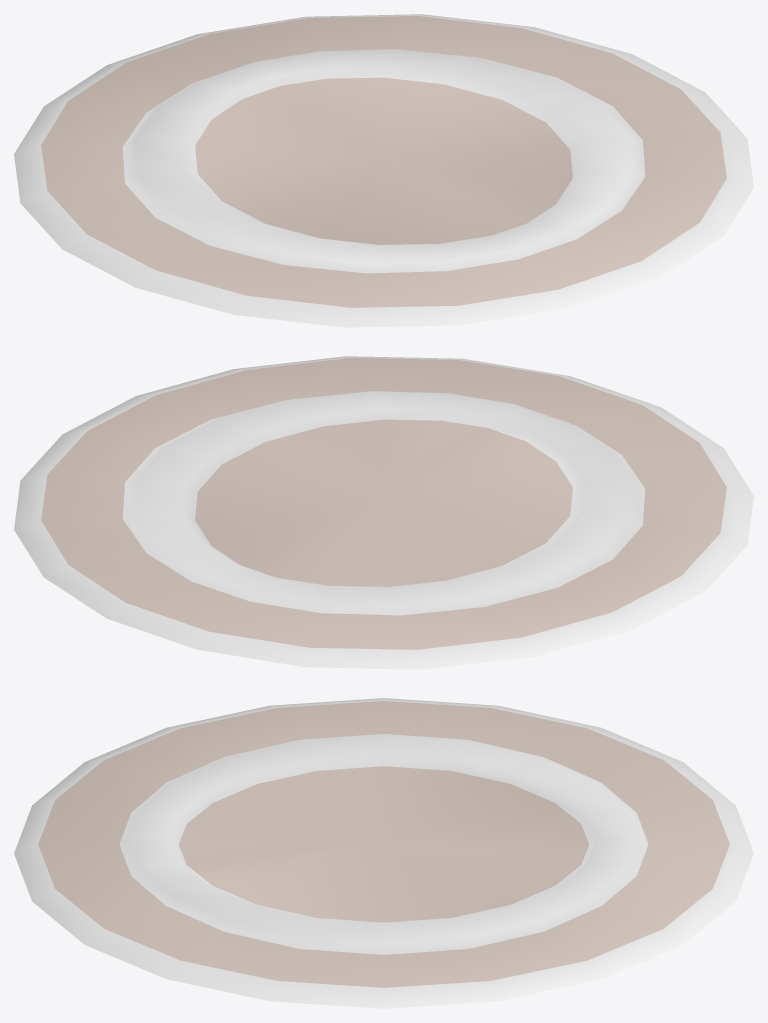
The model's file is carpet_019.fbx.
3 renders of one model, top to bottom at view 1: azimuth 30°, elevation 25°; view 2: azimuth 150°, elevation 25°; view 3: azimuth 270°, elevation 25°, orthographic.
Parts seen in each view (by area): view 1: carpet_019; view 2: carpet_019; view 3: carpet_019.
Boxes of the visible parts, <box> form: carpet_019: <box>14,14,753,327</box>; carpet_019: <box>14,356,753,669</box>; carpet_019: <box>14,698,753,1008</box>.
Bounding box in the file's own units: 245 × 247 × 5.33.
